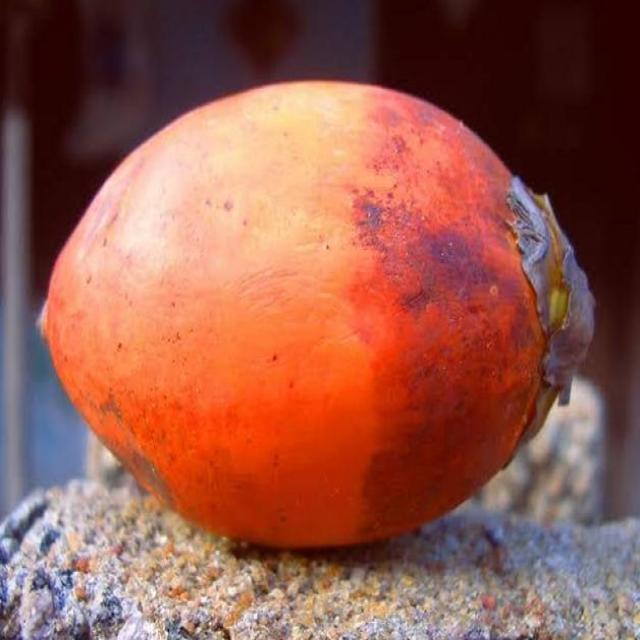good: (39, 80, 595, 554)
